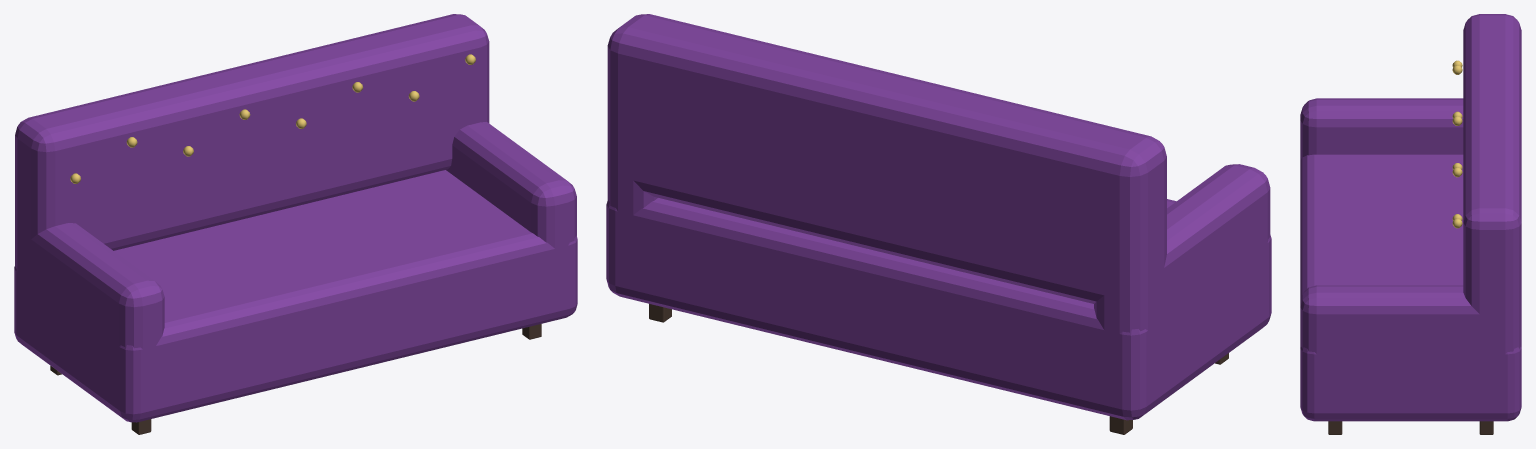
Rendered from chaise_velvet.glb.
3 views of the same model, side by side, from view 1: azimuth 30°, elevation 25°; view 2: azimuth 150°, elevation 25°; view 3: azimuth 270°, elevation 25° (orthographic). The views are drawn at different scales.
Parts seen in each view (by area): view 1: GD_chaise_velvet__m0, GD_chaise_velvet__m1, GD_chaise_velvet__m2; view 2: GD_chaise_velvet__m0, GD_chaise_velvet__m2; view 3: GD_chaise_velvet__m0, GD_chaise_velvet__m1, GD_chaise_velvet__m2.
Boxes of the visible parts, left/top/right/bottom form: GD_chaise_velvet__m0: left=14, top=14, right=577, bottom=422; GD_chaise_velvet__m1: left=70, top=54, right=475, bottom=183; GD_chaise_velvet__m2: left=50, top=324, right=541, bottom=434; GD_chaise_velvet__m0: left=606, top=14, right=1271, bottom=420; GD_chaise_velvet__m2: left=649, top=304, right=1228, bottom=434; GD_chaise_velvet__m0: left=1300, top=14, right=1521, bottom=421; GD_chaise_velvet__m1: left=1452, top=60, right=1462, bottom=228; GD_chaise_velvet__m2: left=1328, top=421, right=1493, bottom=434.
Bounding box in the file's own units: 2.1 × 1.1 × 0.95.
